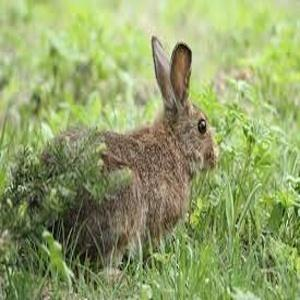rabbit: (26, 37, 220, 268)
